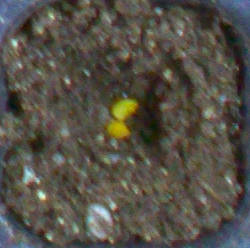chilli seed: (111, 99, 138, 118), (107, 120, 130, 138)
